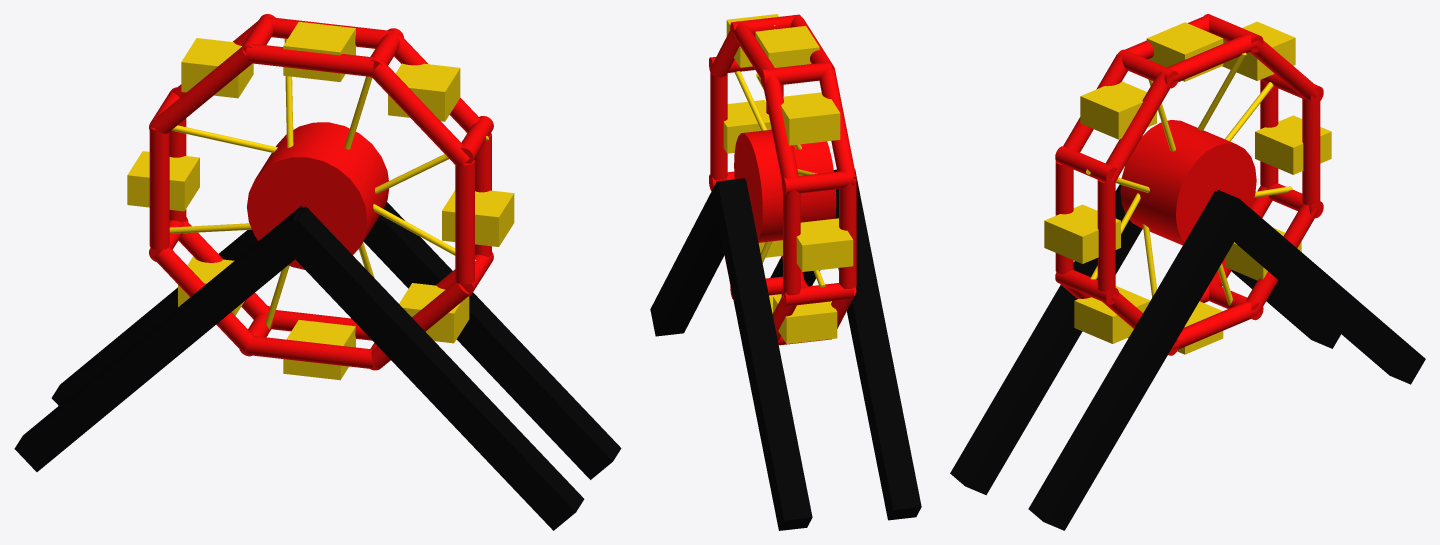
File: GrandeRoue.fbx
3 views of the same model, side by side, from view 1: azimuth 30°, elevation 25°; view 2: azimuth 150°, elevation 25°; view 3: azimuth 270°, elevation 25° (orthographic). The views are drawn at different scales.
Parts seen in each view (by area): view 1: block_default_135, block_default_137, block_default_134, cylinder_full_108, block_default_136, block_default_133, block_default_127, block_default_126, cylinder_full_102, cylinder_full_107, block_default_131, cylinder_full_105 (+18 smaller); view 2: block_default_136, block_default_137, cylinder_full_108, block_default_134, block_default_132, block_default_127, block_default_128, block_default_131, cylinder_full_91, cylinder_full_98, cylinder_full_96, block_default_126 (+12 smaller); view 3: block_default_134, cylinder_full_108, block_default_135, block_default_136, block_default_126, block_default_133, block_default_127, block_default_131, block_default_130, block_default_137, cylinder_full_91, cylinder_full_98 (+19 smaller).
Boxes of the visible parts, left/top/right/bottom form: block_default_135: left=295, top=206, right=584, bottom=530; block_default_137: left=14, top=206, right=315, bottom=471; block_default_134: left=363, top=202, right=621, bottom=479; cylinder_full_108: left=247, top=122, right=389, bottom=269; block_default_136: left=51, top=229, right=257, bottom=405; block_default_133: left=388, top=63, right=460, bottom=121; block_default_127: left=127, top=151, right=199, bottom=211; block_default_126: left=442, top=190, right=514, bottom=246; cylinder_full_102: left=371, top=60, right=469, bottom=165; cylinder_full_107: left=245, top=336, right=373, bottom=369; block_default_131: left=283, top=22, right=355, bottom=81; cylinder_full_105: left=149, top=127, right=169, bottom=249; block_default_136: left=717, top=180, right=812, bottom=530; block_default_137: left=834, top=169, right=921, bottom=520; cylinder_full_108: left=734, top=130, right=836, bottom=242; block_default_134: left=650, top=178, right=745, bottom=336; block_default_132: left=780, top=92, right=840, bottom=145; block_default_127: left=796, top=218, right=853, bottom=271; block_default_128: left=773, top=295, right=837, bottom=343; block_default_131: left=755, top=26, right=819, bottom=67; cylinder_full_91: left=710, top=71, right=727, bottom=180; cylinder_full_98: left=783, top=187, right=800, bottom=295; cylinder_full_96: left=762, top=74, right=798, bottom=186; block_default_126: left=723, top=100, right=771, bottom=153; block_default_134: left=1028, top=191, right=1250, bottom=530; cylinder_full_108: left=1120, top=120, right=1256, bottom=245; block_default_135: left=950, top=184, right=1142, bottom=495; block_default_136: left=1217, top=190, right=1425, bottom=384; block_default_126: left=1044, top=204, right=1120, bottom=263; block_default_133: left=1080, top=81, right=1156, bottom=139; block_default_127: left=1255, top=115, right=1331, bottom=174; block_default_131: left=1146, top=22, right=1223, bottom=81; block_default_130: left=1074, top=286, right=1150, bottom=343; block_default_137: left=1231, top=270, right=1340, bottom=348; cylinder_full_91: left=1097, top=179, right=1115, bottom=291; cylinder_full_98: left=1302, top=94, right=1320, bottom=205.
Size of the model in its own units: 80.04 by 72.77 by 79.04.
